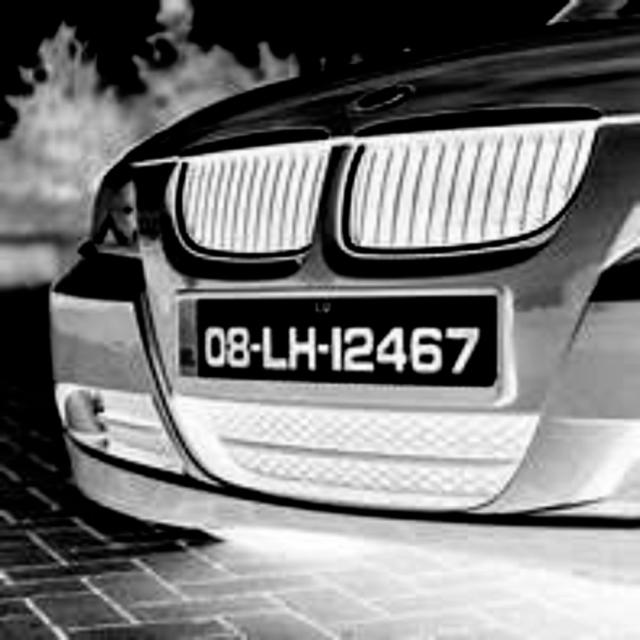Non_registered: (177, 288, 505, 388)
